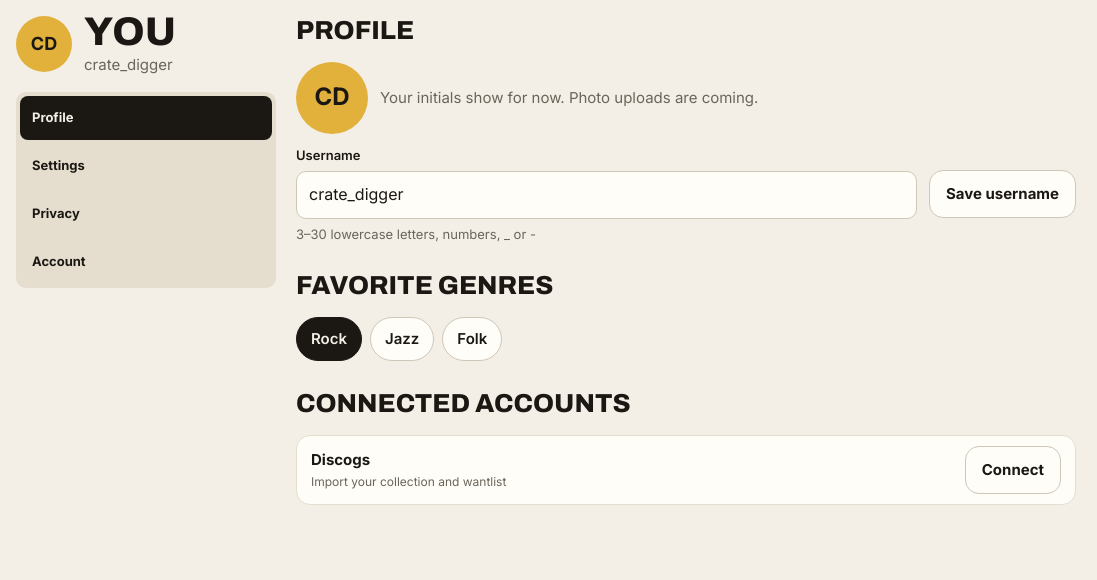
Test case: You › shows why a username was not saved
This screenshot has width=1097, height=580.
Click the button "Save username" at point(1002, 194), box x1=929 y1=170 x2=1076 y2=218
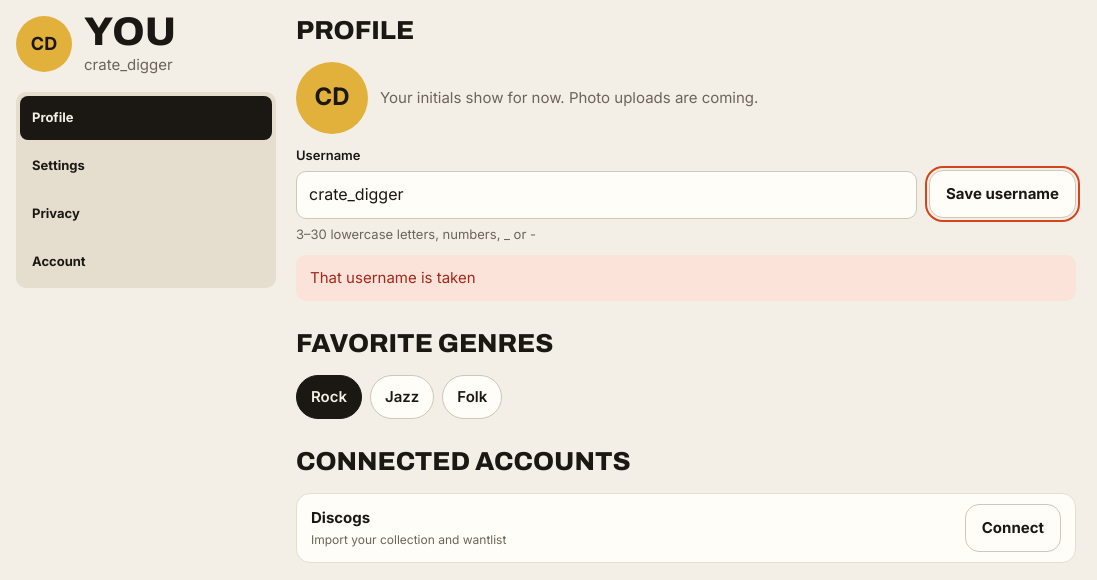
Result: the message reads "That username is taken" at x1=310 y1=268 x2=476 y2=287
